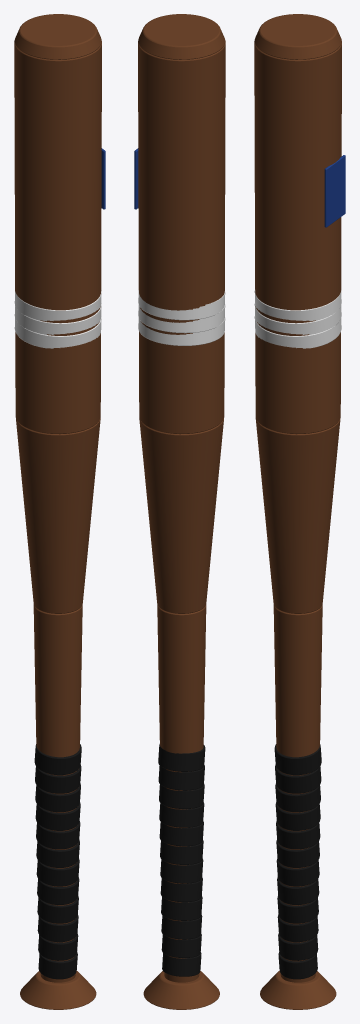
File: bat.glb
3 renders of one model, left to right at view 1: azimuth 30°, elevation 25°; view 2: azimuth 150°, elevation 25°; view 3: azimuth 330°, elevation 25°, orthographic.
Parts seen in each view (by area): view 1: barrel, taper, handle, cap, knob, band0, band1, band2, tape11, tape10, tape9, tape8 (+9 smaller); view 2: barrel, taper, handle, cap, knob, band0, band1, band2, tape11, tape10, tape9, tape8 (+9 smaller); view 3: barrel, taper, handle, cap, knob, label, band0, band1, band2, tape11, tape10, tape9 (+9 smaller).
Boxes of the visible parts, x1,y1,x2,y2 form: barrel: (14, 41, 101, 434); taper: (16, 418, 100, 613); handle: (33, 604, 82, 982); cap: (14, 14, 101, 59); knob: (20, 971, 96, 1009); band0: (14, 316, 101, 348); band1: (14, 303, 101, 334); band2: (14, 290, 101, 321); tape11: (34, 744, 81, 775); tape10: (35, 765, 81, 793); tape9: (35, 783, 80, 812); tape8: (35, 802, 80, 830); barrel: (138, 41, 225, 434); taper: (139, 418, 223, 613); handle: (157, 604, 206, 982); cap: (138, 14, 225, 59); knob: (143, 971, 219, 1009); band0: (138, 317, 225, 345); band1: (138, 304, 225, 333); band2: (138, 290, 225, 320); tape11: (158, 744, 205, 771); tape10: (158, 765, 204, 790); tape9: (159, 784, 204, 809); tape8: (159, 802, 204, 827); barrel: (254, 41, 341, 434); taper: (255, 418, 340, 613); handle: (273, 604, 322, 982); cap: (254, 14, 341, 59); knob: (260, 971, 336, 1009); label: (324, 155, 345, 227); band0: (254, 316, 341, 348); band1: (254, 303, 341, 334); band2: (254, 289, 341, 321); tape11: (274, 744, 321, 775); tape10: (275, 765, 321, 793); tape9: (275, 783, 320, 812).
Size of the model in its own units: 0.068 by 0.823 by 0.068.
